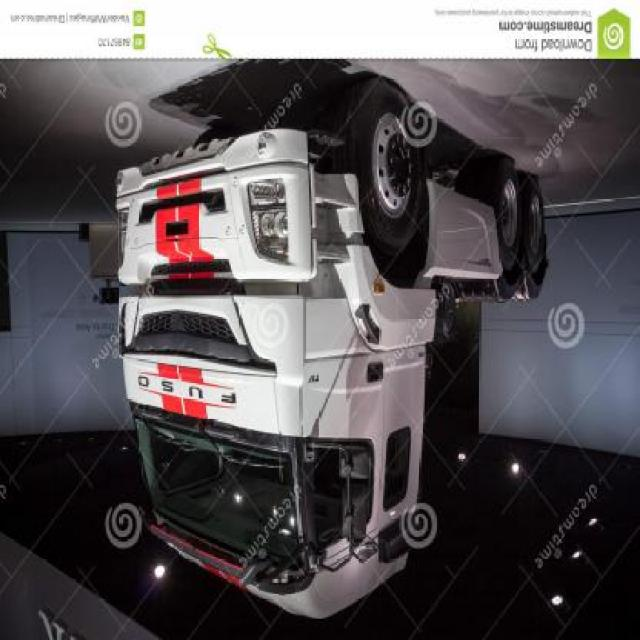truck: (119, 83, 552, 625)
